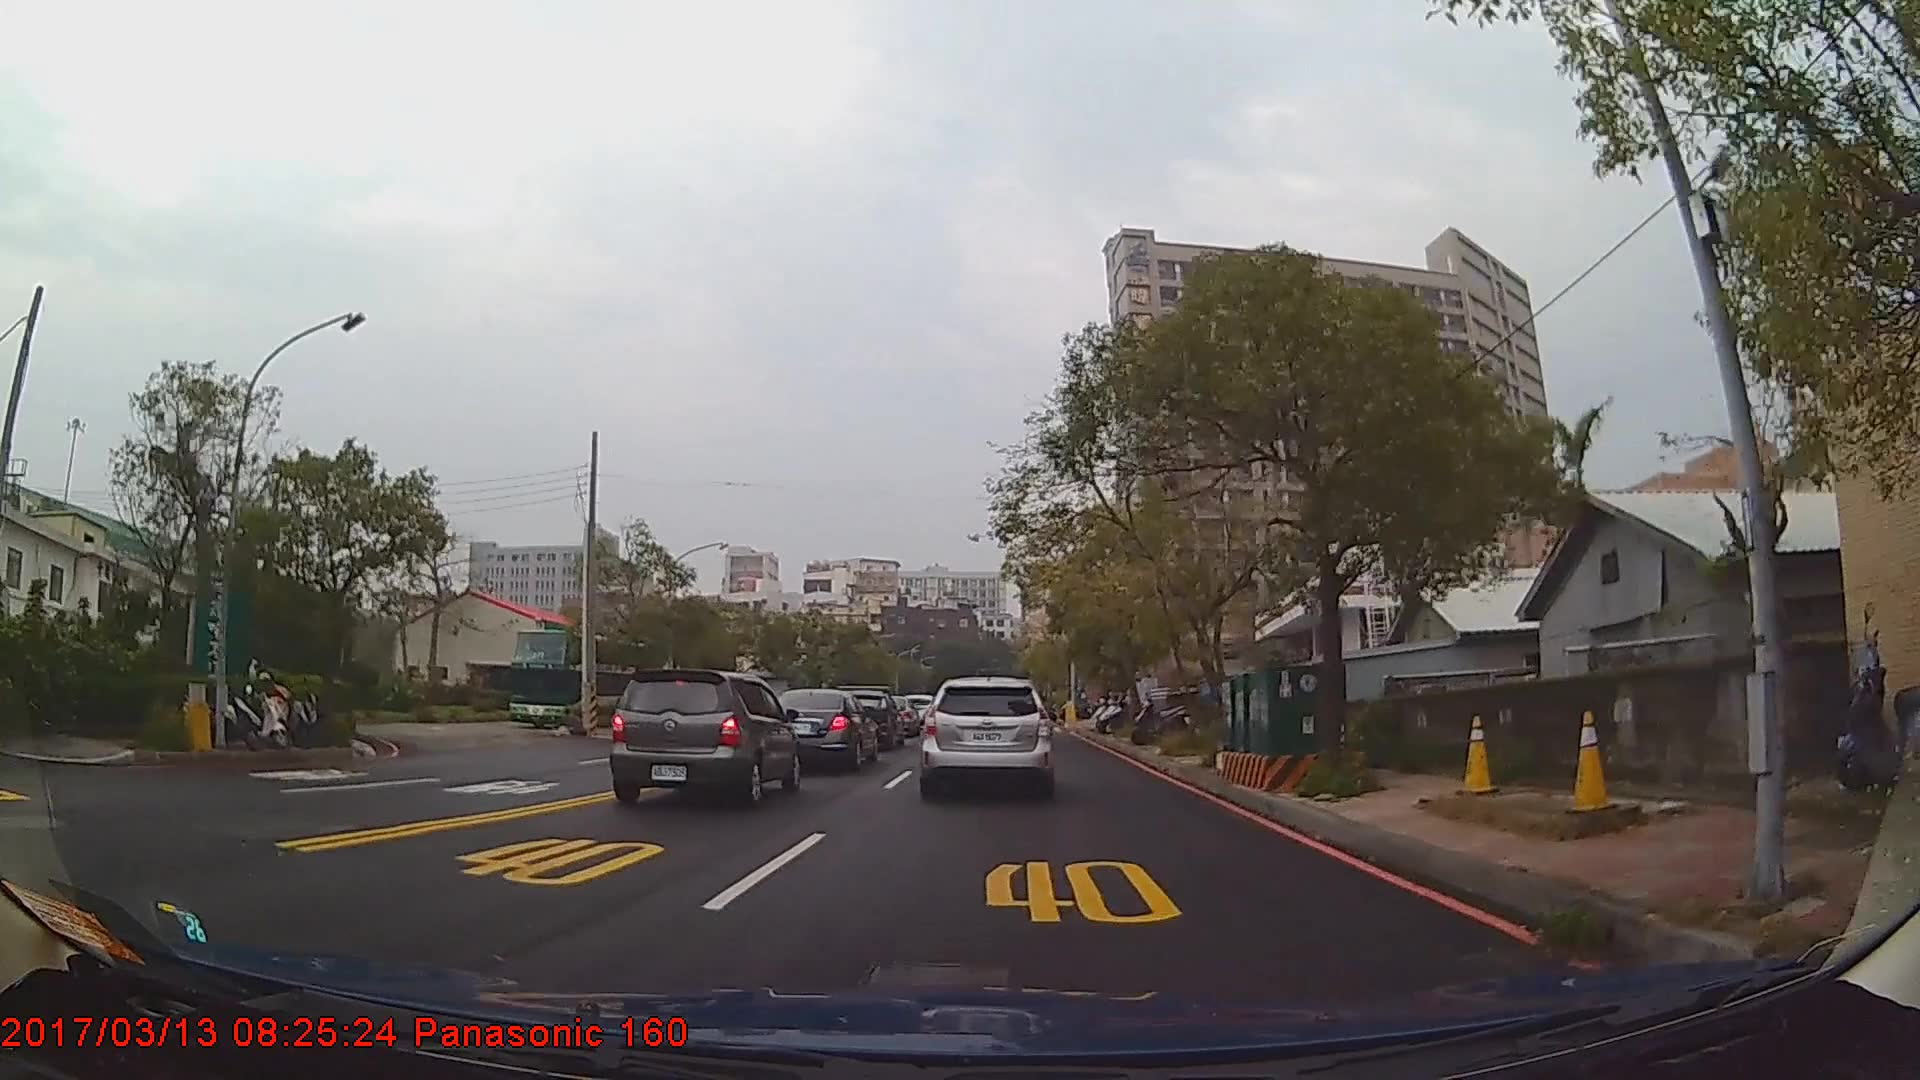vehicle: (605, 666, 798, 807), (506, 626, 671, 735), (919, 675, 1054, 795), (762, 686, 877, 774)
